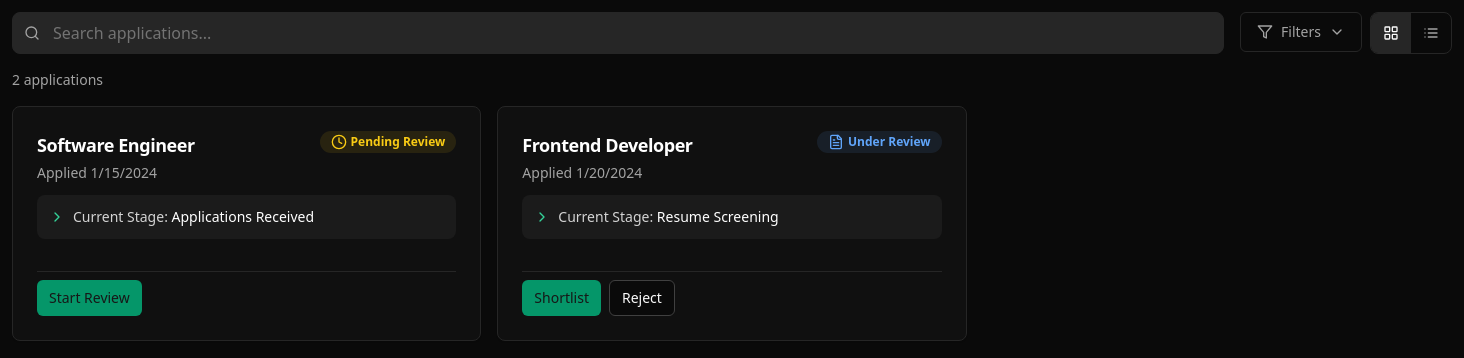
Test: ApplicationList › clears search from empty state
In the field with placeholder "Search applications...": (618, 33) top-left (12, 12), bottom-right (1224, 54), type "Nonexistent"
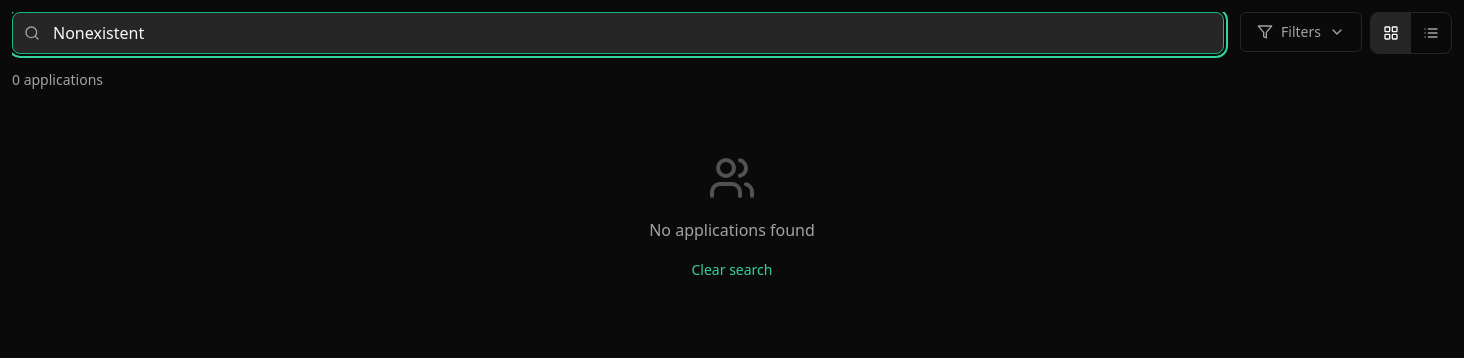
Now the text "No applications found" is shown, box top-left (649, 219), bottom-right (815, 241)
Click the button "Clear search": (732, 270) top-left (676, 250), bottom-right (788, 290)
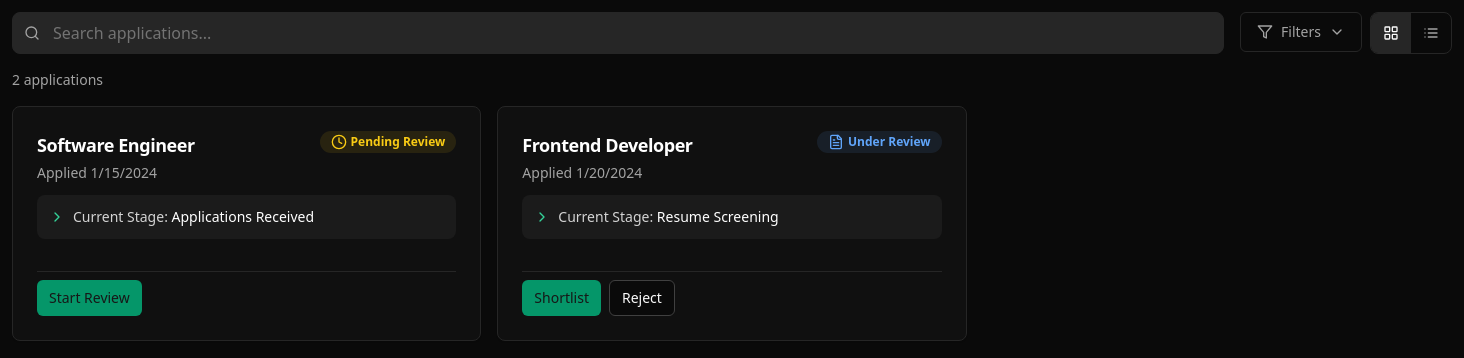
Now the text "2 applications" is shown, box top-left (12, 70), bottom-right (103, 90)
